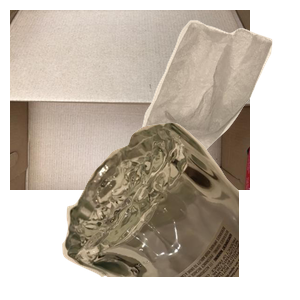cardboard: (10, 10, 250, 190)
glass: (60, 120, 300, 300)
plastic: (91, 152, 281, 300)
trash: (132, 17, 300, 177)
